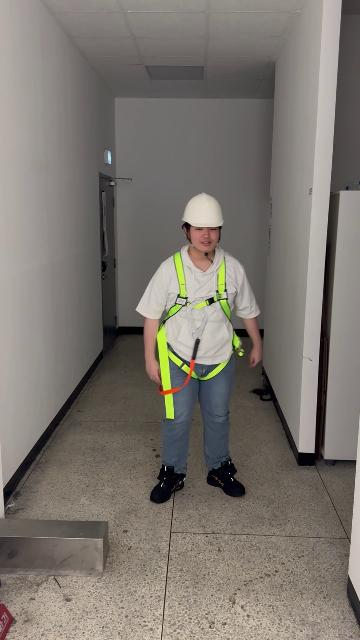helmet_worn: (181, 192, 226, 228)
shoe_worn: (206, 459, 245, 497), (150, 464, 186, 503)
vest_worn: (152, 251, 245, 415)
